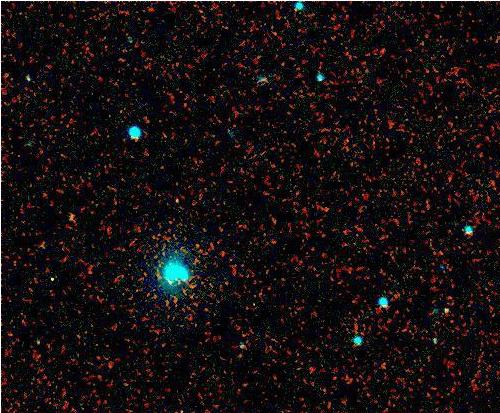star: (28, 230, 58, 260)
